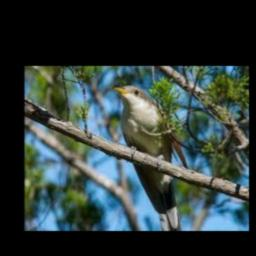Cuckoo: (112, 85, 189, 231)
